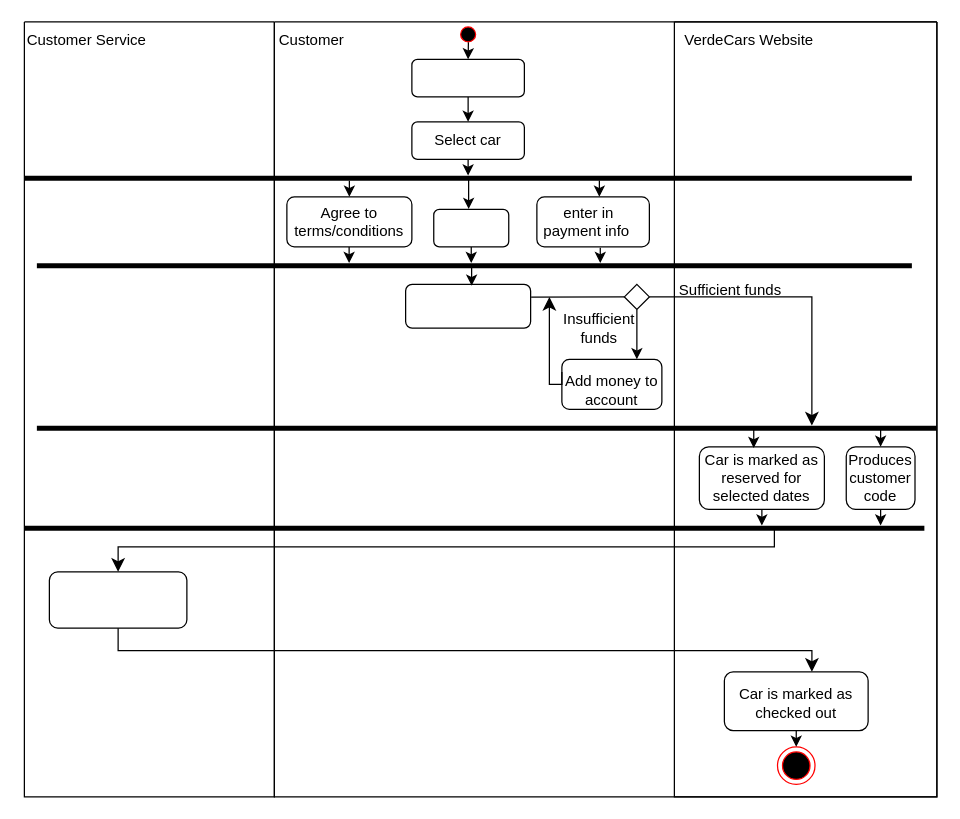
Some shapes in this 960 by 819 pixel diagram are drawn without their labels. The box of each missing label's shape, as (x1, y1, x2, y2) in pixels:
click checkout: (404, 283, 531, 328)
Confirms customer code: (48, 571, 187, 628)
enter in dates: (432, 208, 509, 247)
Login to website: (411, 58, 524, 97)
